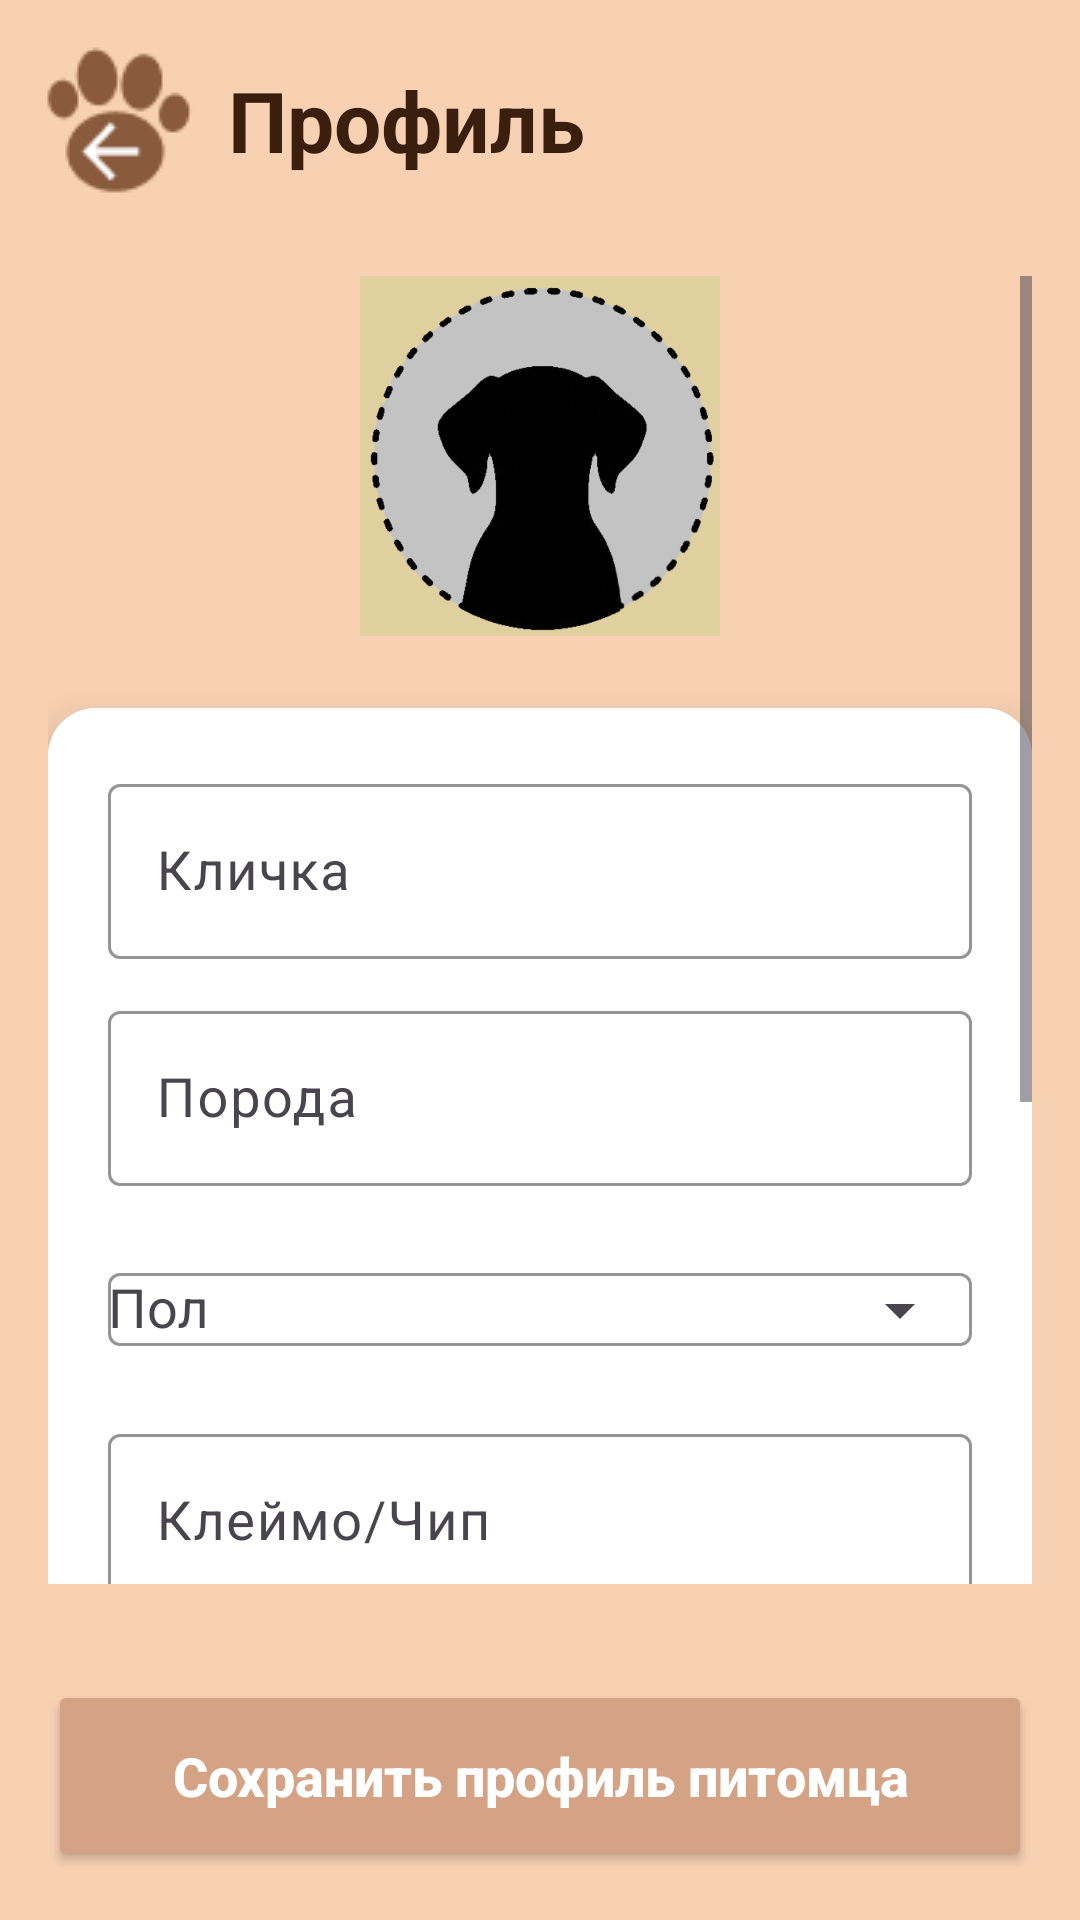

Point at icon controls on the screen. Image size 1080 × 1920, points as point (x, y).
back: point (118, 120)
usericon: point (542, 459)
